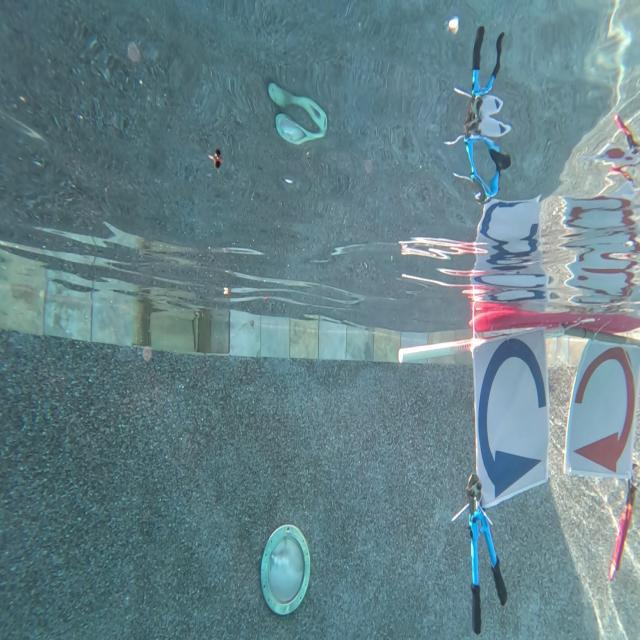blue_side: (478, 346, 550, 492)
red_side: (569, 339, 634, 472)
